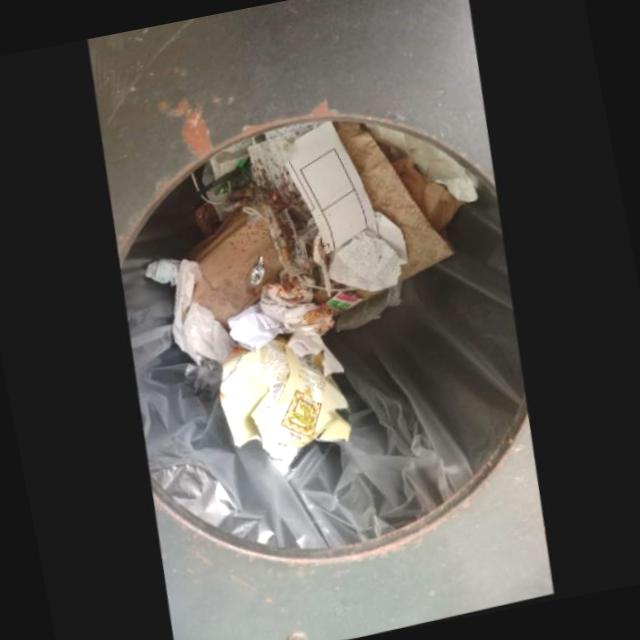bao_bi_thuc_pham: (222, 337, 353, 463)
giay: (311, 123, 457, 320), (286, 122, 410, 293), (184, 213, 285, 334), (174, 260, 239, 366), (228, 303, 296, 353)
khau_trang: (243, 126, 315, 278), (191, 139, 256, 222), (146, 258, 183, 287)
